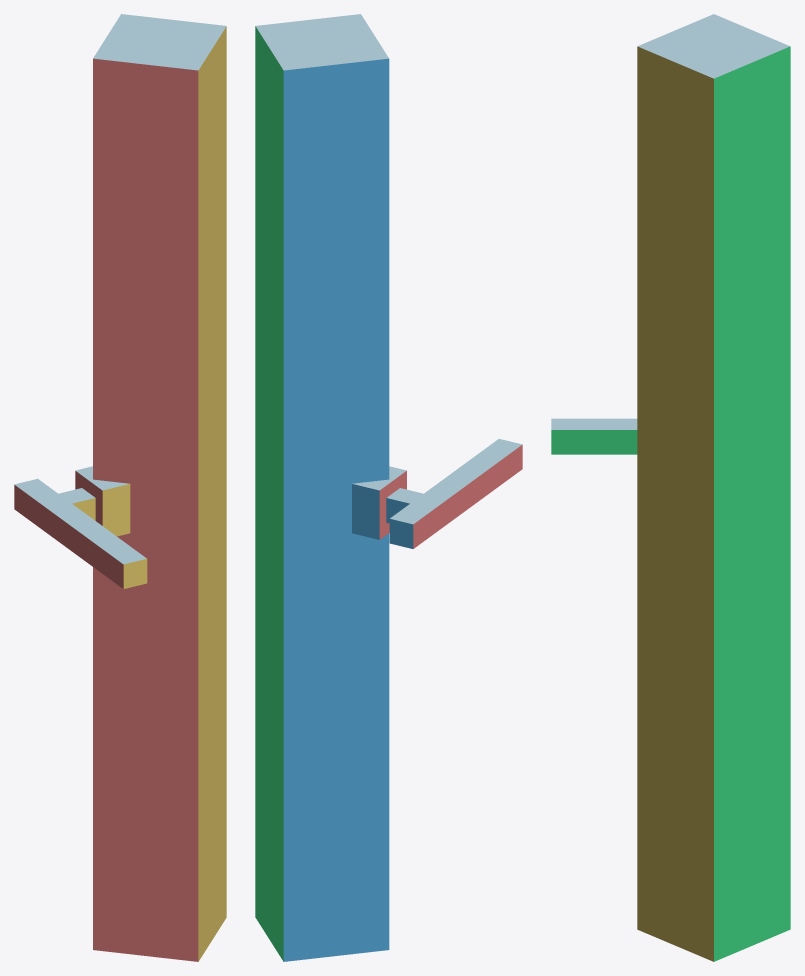
Rendered from Valve.gltf.
3 views of the same model, side by side, from view 1: azimuth 30°, elevation 25°; view 2: azimuth 150°, elevation 25°; view 3: azimuth 270°, elevation 25° (orthographic).
Visible parts, largest first — view 1: Pipe, Valve, Extruding part, Valve Attach; view 2: Pipe, Valve, Extruding part, Valve Attach; view 3: Pipe, Valve.
Part boxes in pixels (bbox=[...]): Pipe: bbox=[93, 14, 226, 961]; Valve: bbox=[14, 478, 147, 589]; Extruding part: bbox=[75, 466, 130, 536]; Valve Attach: bbox=[59, 488, 95, 520]; Pipe: bbox=[255, 14, 389, 961]; Valve: bbox=[389, 439, 522, 548]; Extruding part: bbox=[352, 466, 406, 539]; Valve Attach: bbox=[386, 488, 423, 523]; Pipe: bbox=[637, 14, 790, 961]; Valve: bbox=[551, 418, 637, 454].
Bounding box in the file's own units: 0.2446 × 1.12 × 0.2759.
Materials: 1 (1 with a texture image).
